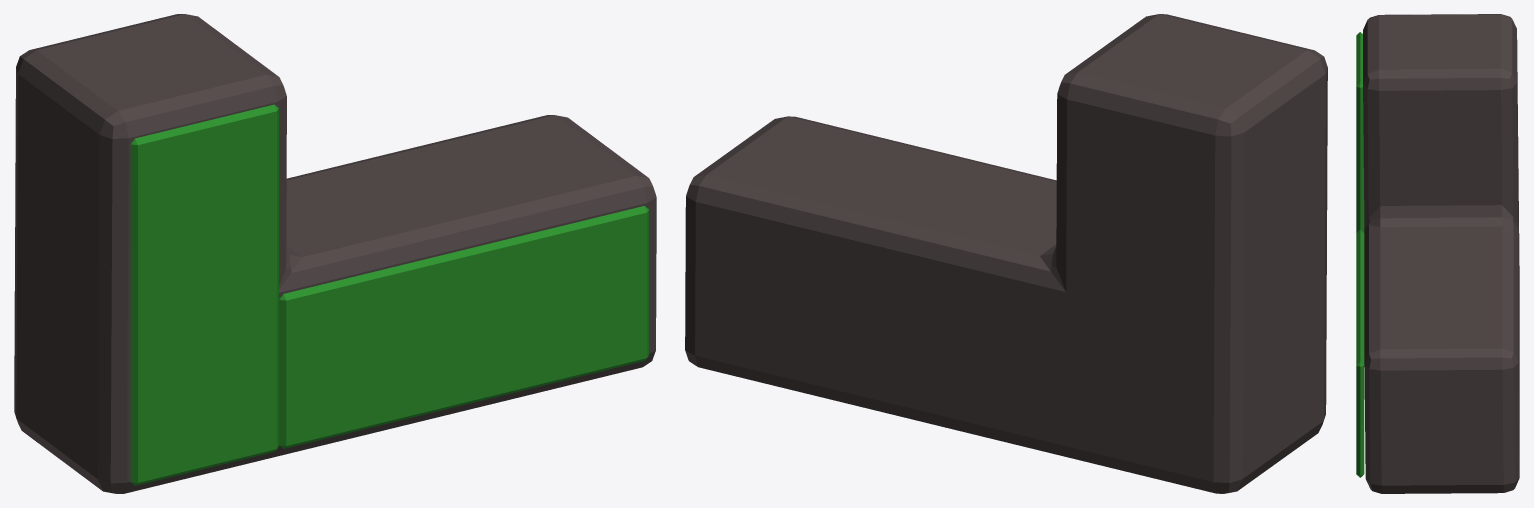
The picture shows the model from 3 angles, left to right: view 1: azimuth 30°, elevation 25°; view 2: azimuth 150°, elevation 25°; view 3: azimuth 270°, elevation 25°; orthographic projection. The views are drawn at different scales.
Parts seen in each view (by area): view 1: Cube.002, Cube.004; view 2: Cube.004; view 3: Cube.004, Cube.002.
Part boxes in pixels (x1,y1,x2,y2): Cube.002: [130, 104, 648, 485]; Cube.004: [14, 14, 656, 493]; Cube.004: [685, 14, 1327, 493]; Cube.004: [1363, 14, 1519, 493]; Cube.002: [1356, 32, 1364, 477].
Bounding box in the file's own units: 3 × 1.99 × 1.02.
